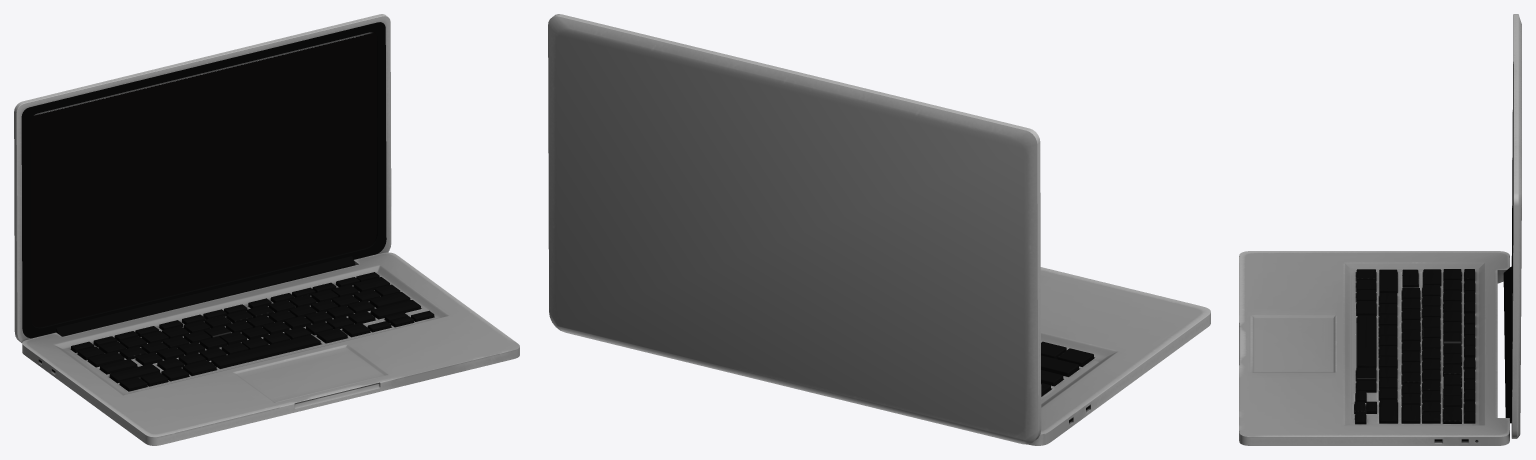
The model's file is laptop.glb.
The picture shows the model from 3 angles, left to right: view 1: azimuth 30°, elevation 25°; view 2: azimuth 150°, elevation 25°; view 3: azimuth 270°, elevation 25°; orthographic projection. The views are drawn at different scales.
Parts seen in each view (by area): view 1: Object_3, Object_11, Object_4, Object_6, Object_7, Object_12, Object_8; view 2: Object_12, Object_11, Object_7; view 3: Object_11, Object_7, Object_6, Object_12, Object_10, Object_4, Object_8.
Boxes of the visible parts, left/top/right/bottom form: Object_3: left=30, top=33, right=376, bottom=327; Object_11: left=22, top=252, right=519, bottom=445; Object_4: left=21, top=22, right=386, bottom=338; Object_6: left=93, top=277, right=359, bottom=391; Object_7: left=71, top=272, right=413, bottom=386; Object_12: left=14, top=14, right=391, bottom=349; Object_8: left=100, top=300, right=434, bottom=374; Object_12: left=548, top=14, right=1041, bottom=444; Object_11: left=1028, top=267, right=1210, bottom=445; Object_7: left=1041, top=341, right=1078, bottom=396; Object_11: left=1239, top=251, right=1509, bottom=445; Object_7: left=1354, top=269, right=1474, bottom=423; Object_6: left=1356, top=269, right=1474, bottom=411; Object_12: left=1421, top=14, right=1521, bottom=438; Object_10: left=1354, top=271, right=1477, bottom=441; Object_4: left=1503, top=64, right=1513, bottom=423; Object_8: left=1355, top=269, right=1418, bottom=424.
Size of the model in its own units: 6.83 by 4.39 by 4.38.
7 materials, 4 textured.
